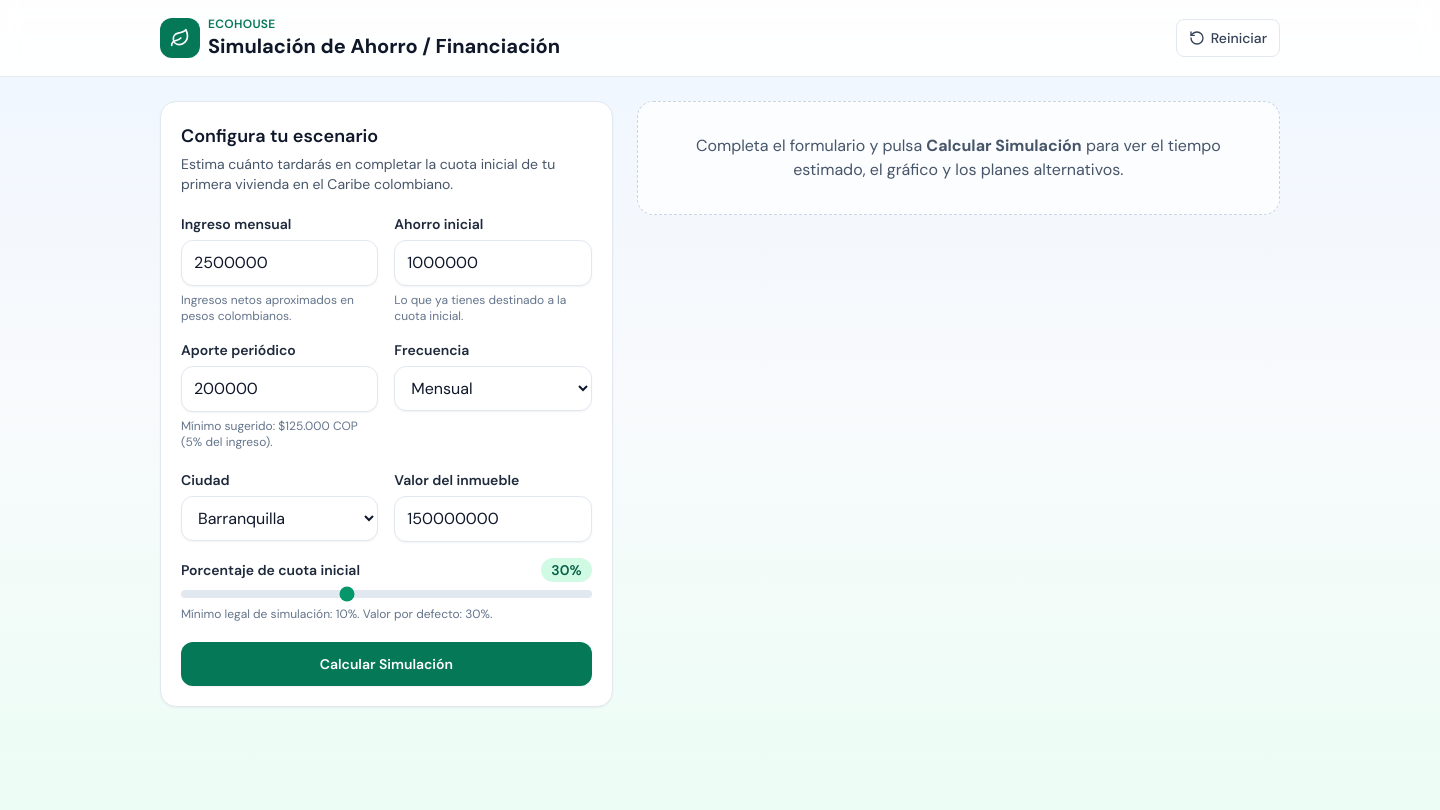
Test case: InterfazSimulacionAhorro › deshabilita el cálculo y muestra el error del 5%
Replace the text in the number field labelled "Ingreso mensual" with "3000000": (280, 263) [181,240,378,286]
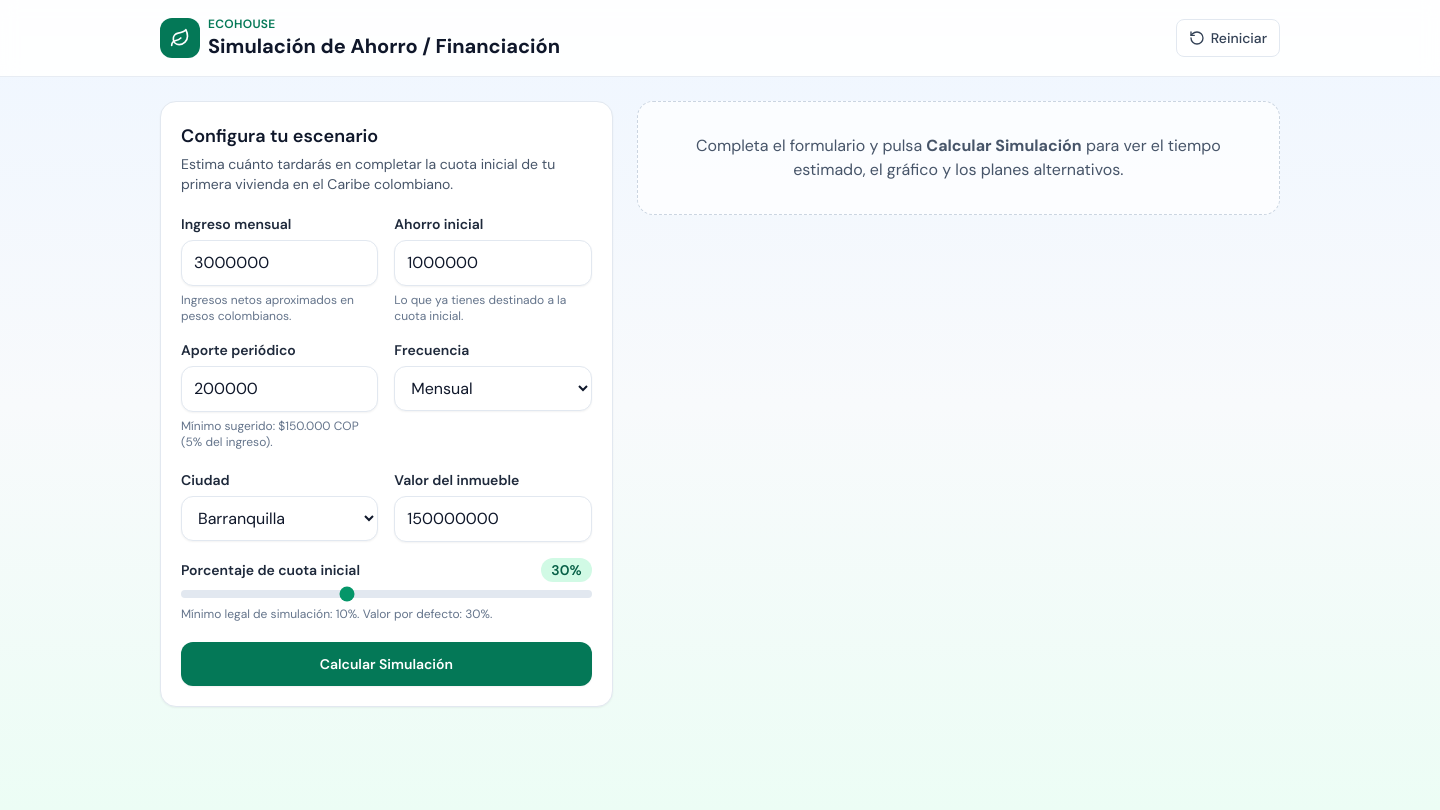
Replace the text in the number field labelled "Aporte periódico" with "50000": (280, 389) [181,366,378,412]
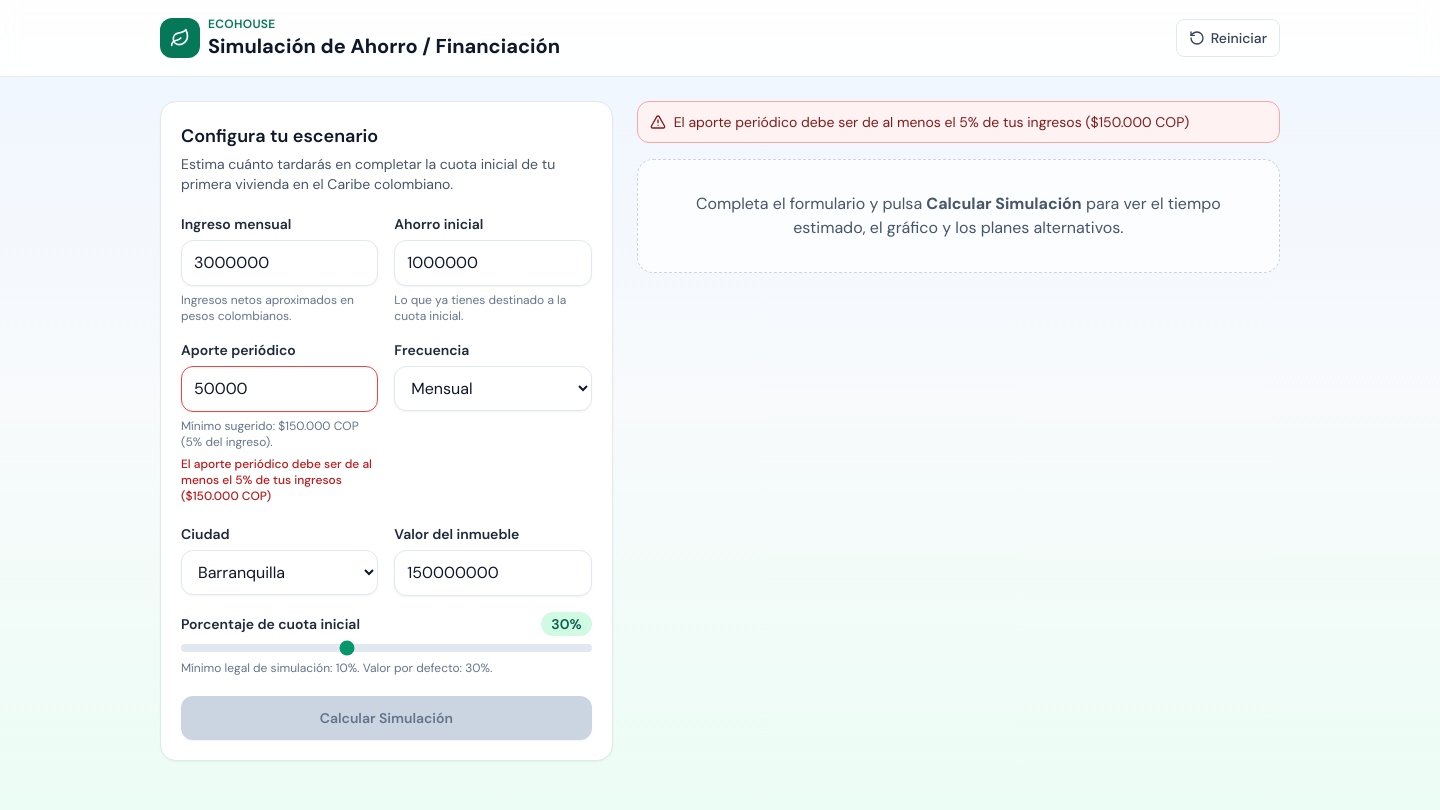
expect the text "El aporte periódico debe ser de al menos el 5% de tus ingresos ($150.000 COP)" below "Frecuencia" is shown: met, box [181,456,372,504]
expect the button "Calcular Simulación" is disabled: met, box [181,696,592,740]
